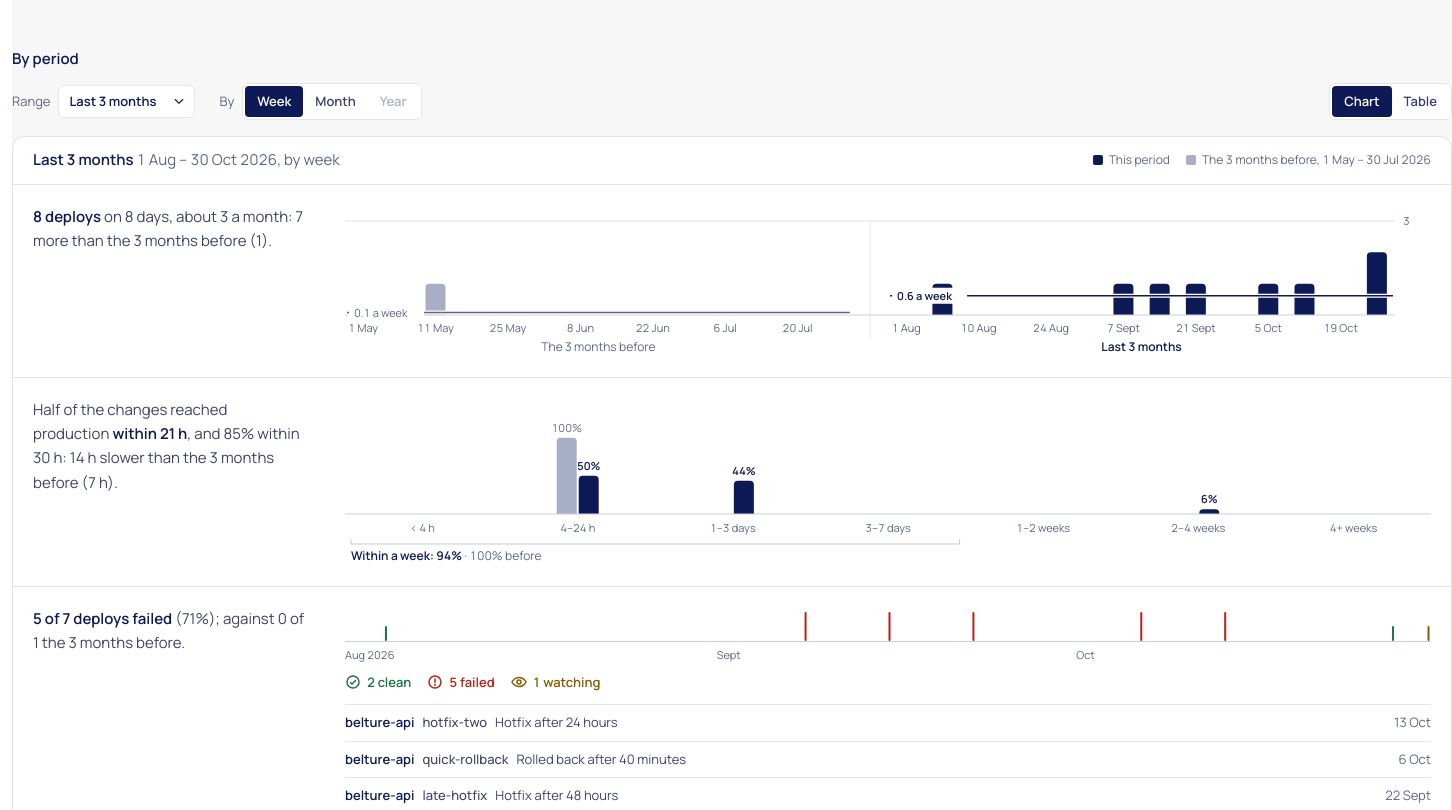
Scenario: PeriodSection › moves through the weeks with the keyboard
The image size is (1452, 810).
Later steps or results of the test are not shown.
Focus the slider named "Deploys by week": (888, 280) [345,204,1431,356]
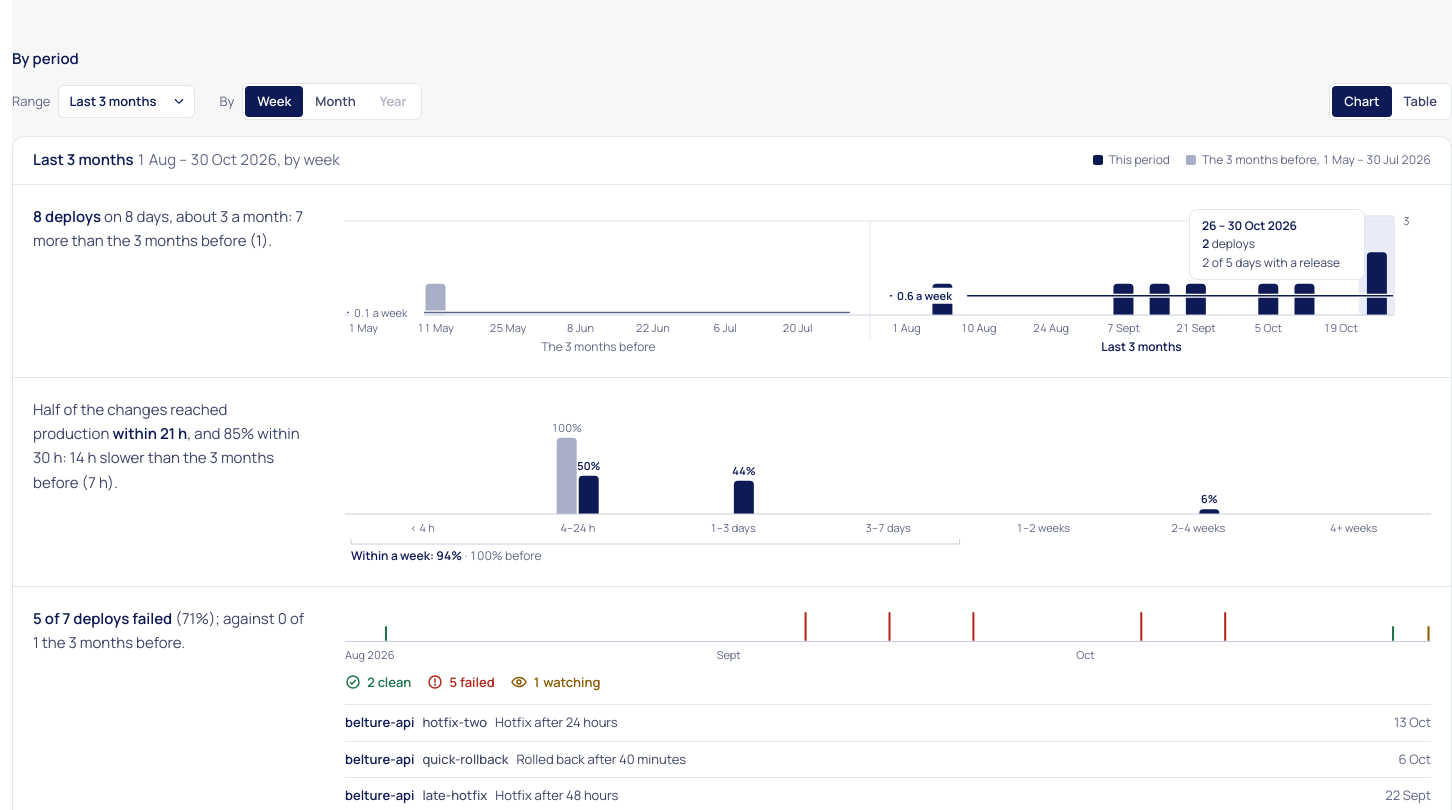
Press Home in the slider named "Deploys by week", box [345,204,1431,356]
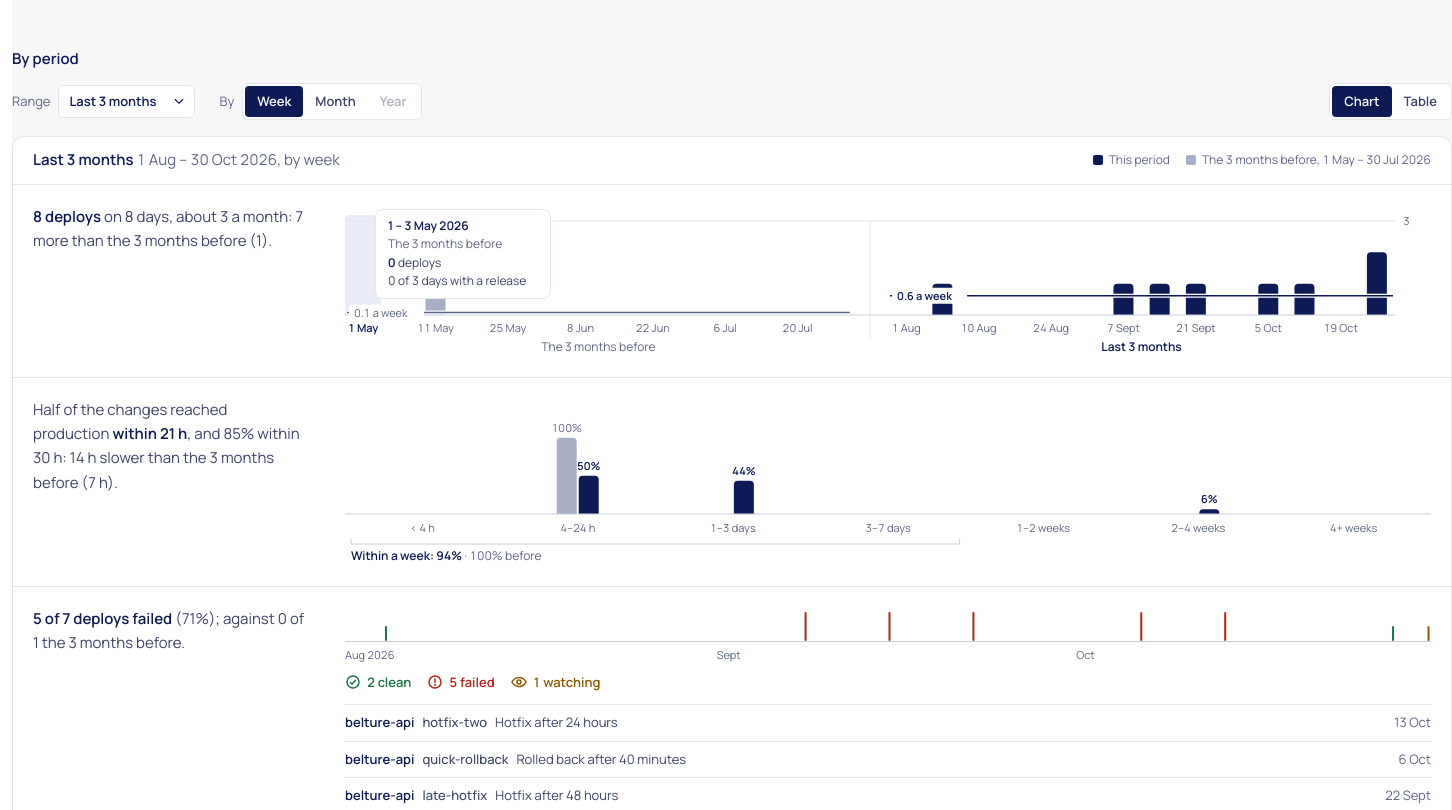
expect the slider named "Deploys by week" has attribute aria-valuetext="The 3 months before, 1 – 3 May 2026: 0 deploys, 0 of 3 days with a release": met
Press ArrowRight in the slider named "Deploys by week", box [345,204,1431,356]
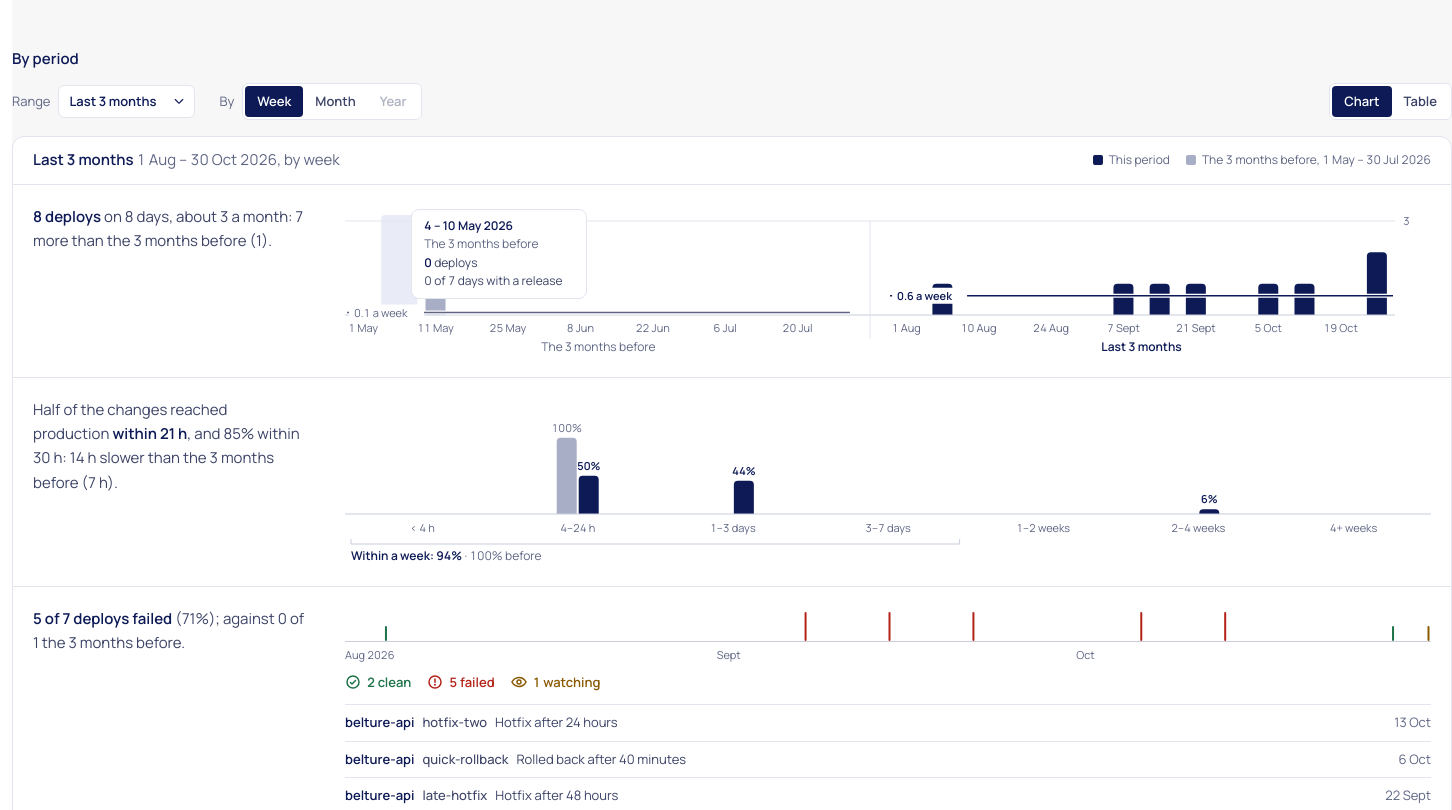
Press ArrowRight in the slider named "Deploys by week", box [345,204,1431,356]
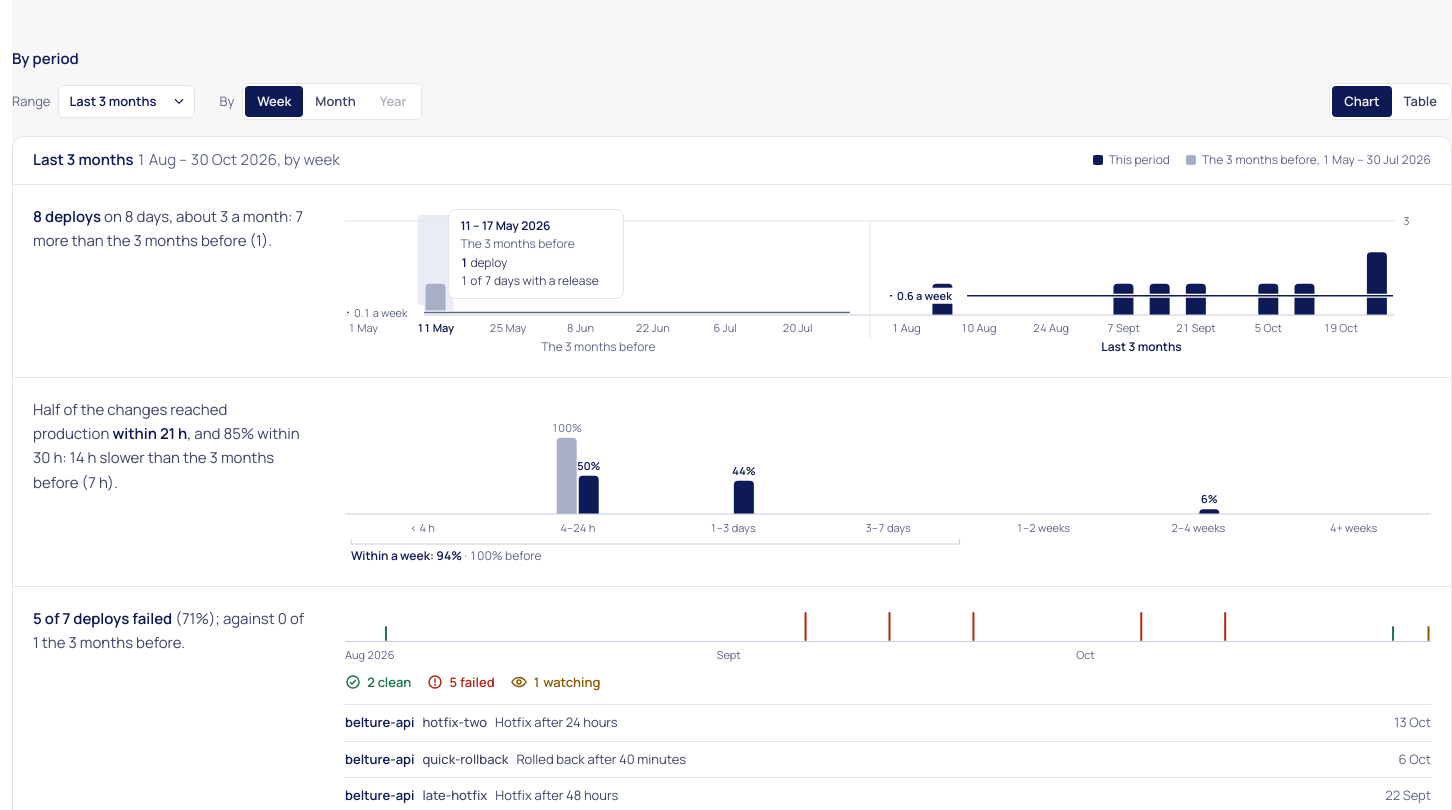
Press ArrowLeft in the slider named "Deploys by week", box [345,204,1431,356]
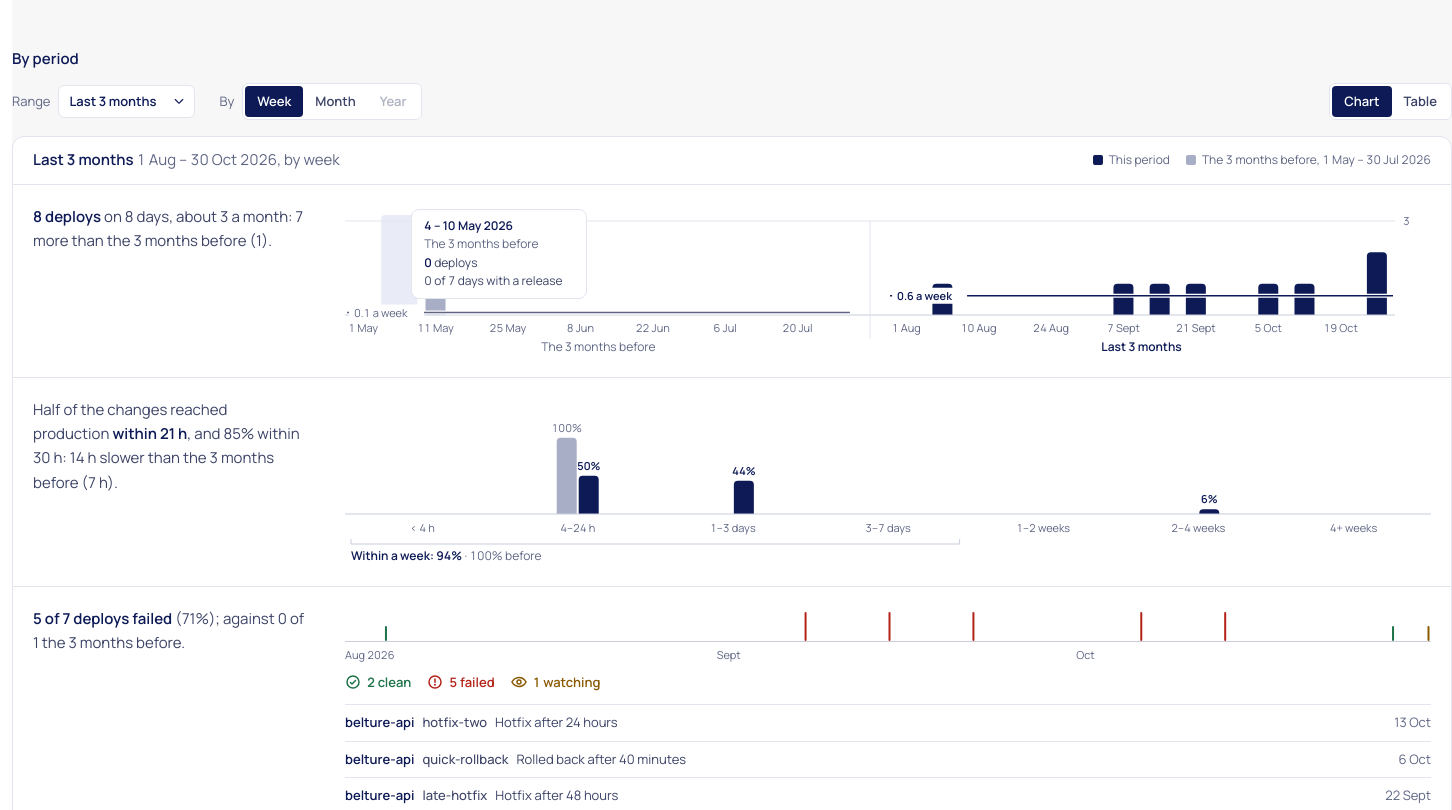
expect the slider named "Deploys by week" has attribute aria-valuenow="2": met
Press End in the slider named "Deploys by week", box [345,204,1431,356]
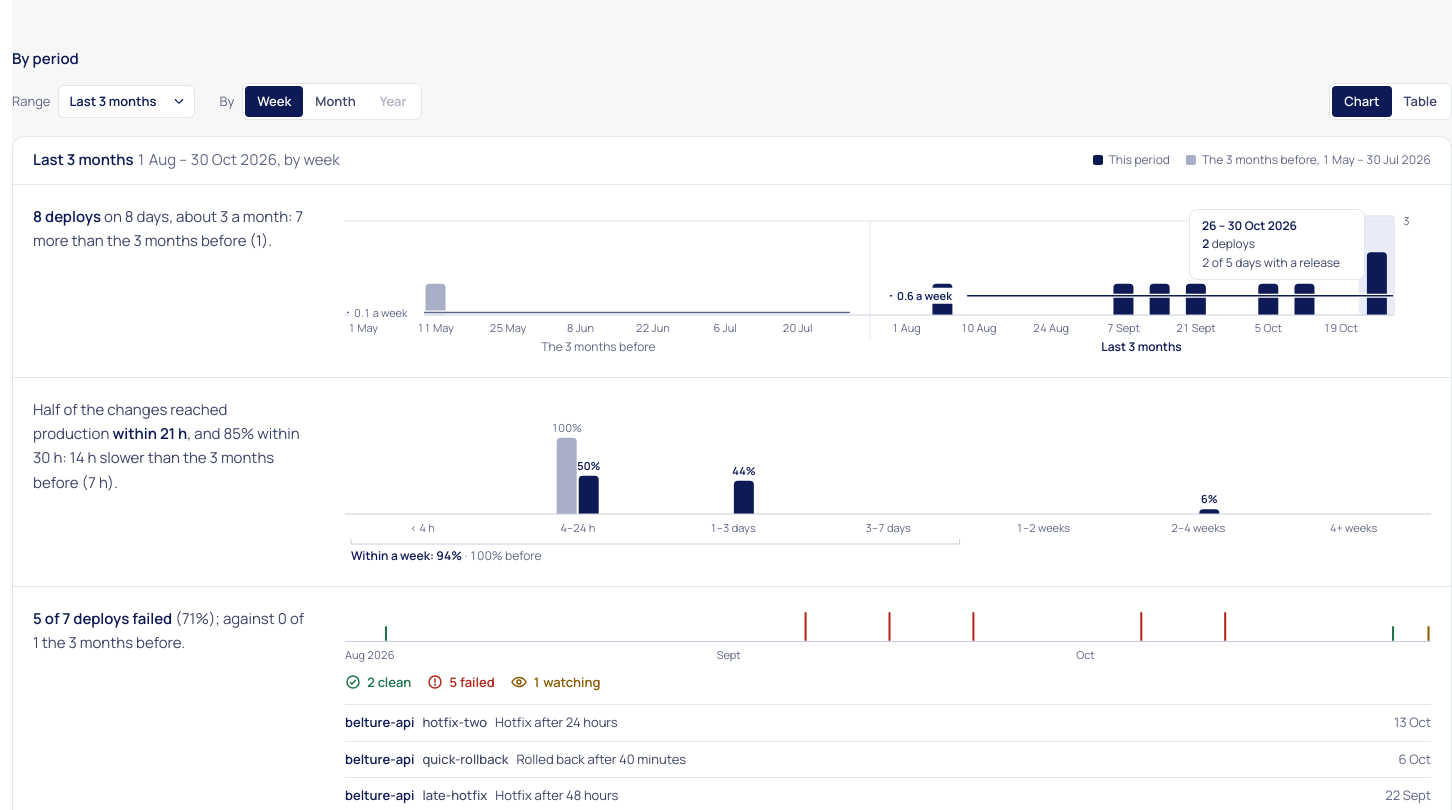
expect the slider named "Deploys by week" has attribute aria-valuenow="28": met, box [345,204,1431,356]
